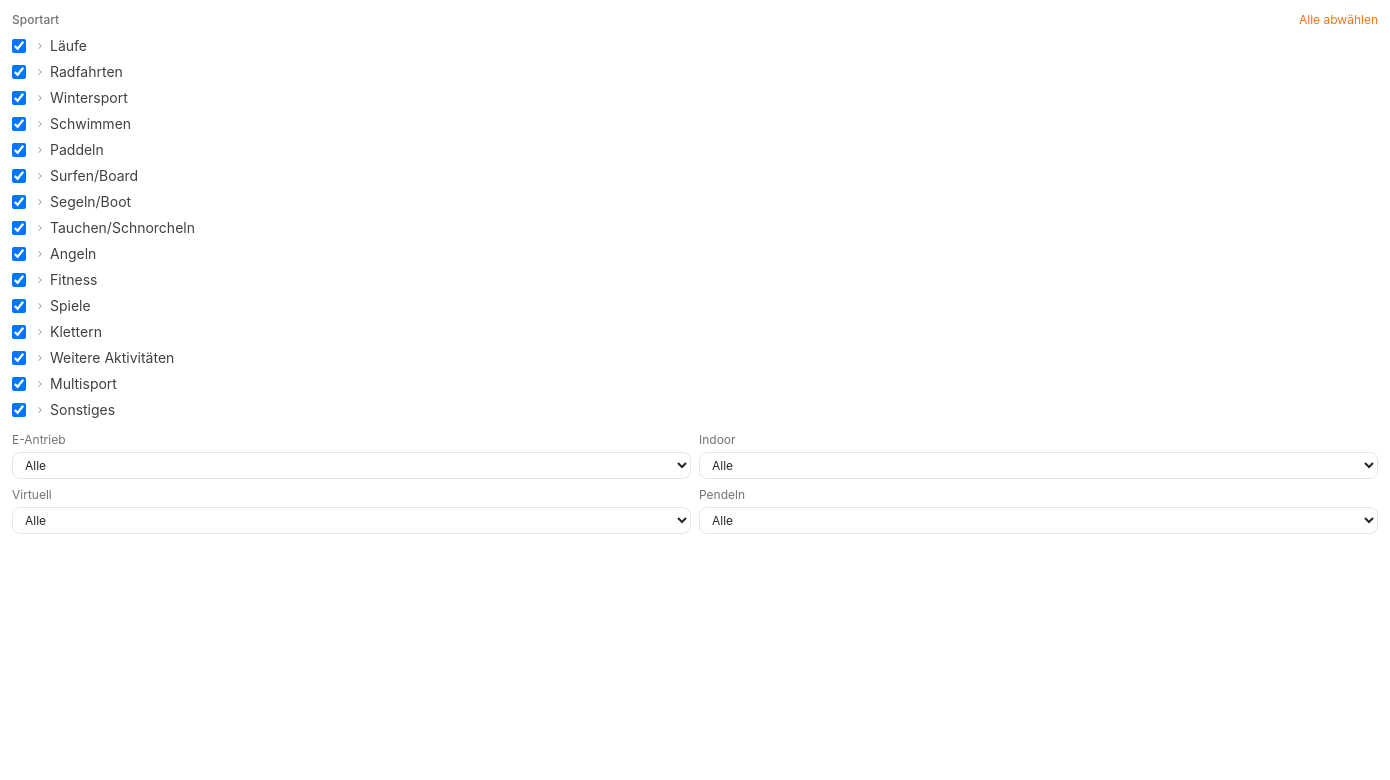
Test case: SportFilter › keeps non-GPS water sports in the activity water split
Click the button "Tauchen/Schnorcheln".
click(114, 228)  # box [34,218,195,238]
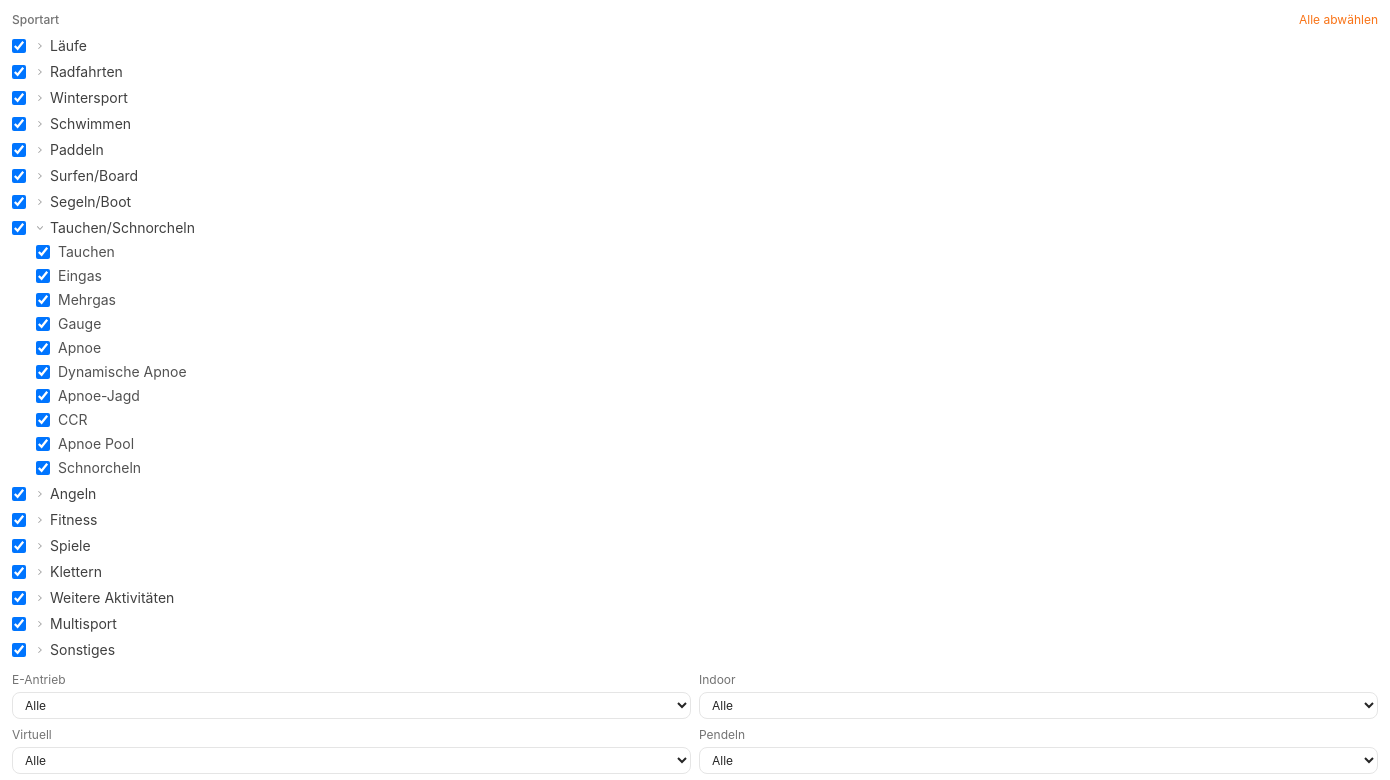
Now the text "Tauchen" is shown, box [58,242,115,262]
Now the text "Schnorcheln" is shown, box [58,458,141,478]
